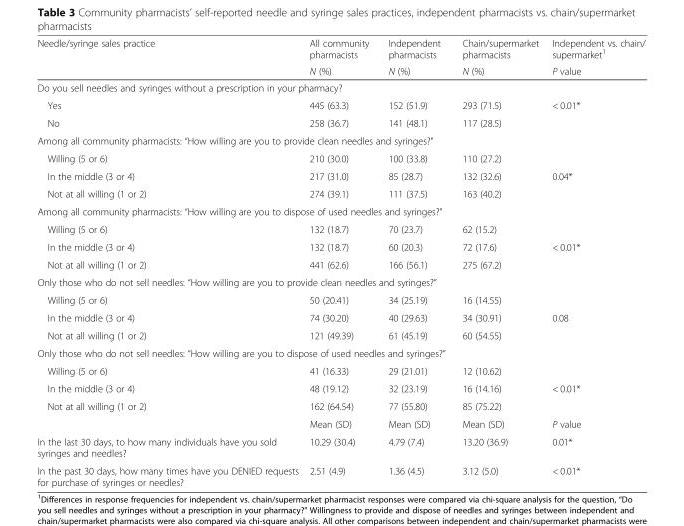table: (36, 37, 644, 487)
table column: (36, 37, 303, 487), (544, 37, 644, 487), (450, 37, 544, 487), (303, 37, 378, 487), (378, 37, 450, 487)
table column header: (36, 37, 644, 78)
table projected row header: (36, 78, 644, 96), (36, 131, 644, 149), (36, 202, 644, 220), (36, 343, 644, 361), (36, 273, 644, 290)
table row: (36, 432, 644, 461), (36, 461, 644, 487), (36, 37, 644, 62), (36, 78, 644, 96), (36, 113, 644, 131), (36, 131, 644, 149), (36, 166, 644, 184), (36, 184, 644, 202), (36, 202, 644, 220), (36, 237, 644, 255), (36, 255, 644, 273), (36, 290, 644, 308), (36, 308, 644, 326), (36, 343, 644, 361), (36, 361, 644, 379), (36, 379, 644, 397), (36, 414, 644, 432), (36, 96, 644, 113), (36, 149, 644, 166), (36, 220, 644, 237), (36, 273, 644, 290), (36, 326, 644, 343), (36, 397, 644, 414), (36, 62, 644, 78)
table spanning cell: (36, 37, 303, 78), (36, 397, 303, 432), (544, 37, 644, 78), (450, 37, 544, 78), (544, 96, 644, 131), (303, 37, 378, 78), (378, 37, 450, 78)
